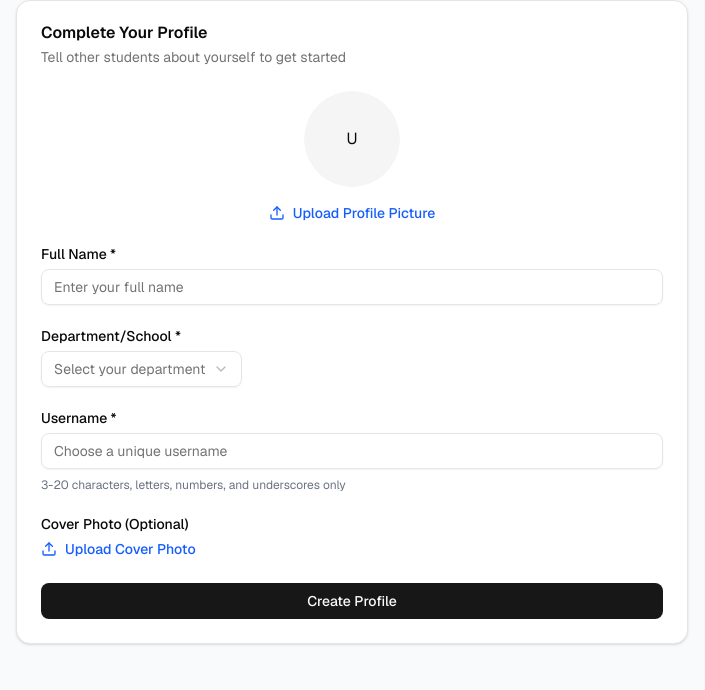
Test case: ProfileForm › Profile Creation › shows error when username is not available
The image size is (705, 690).
Type "takenuser" into the field labelled "Username *" at coordinates (352, 451), box [41,433,663,469]
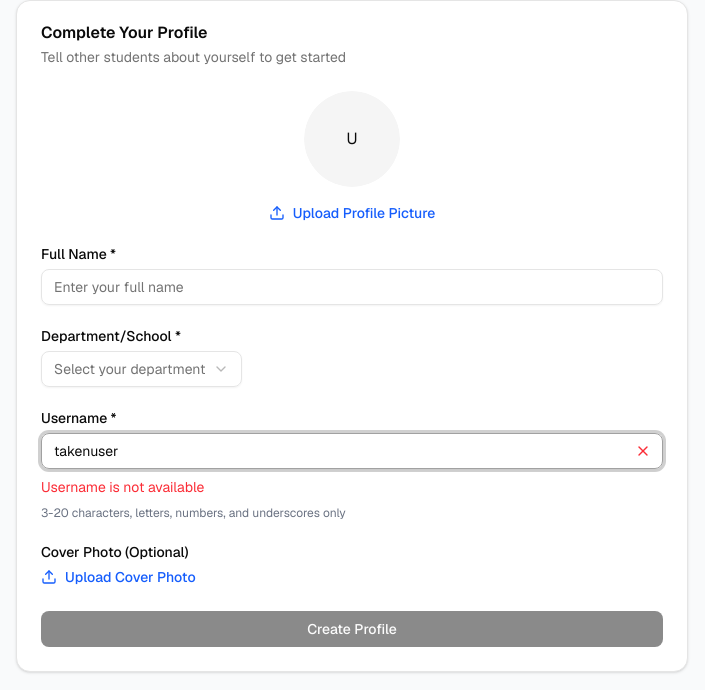
Now the text "Username is not available" is shown, box [41,478,204,496]
